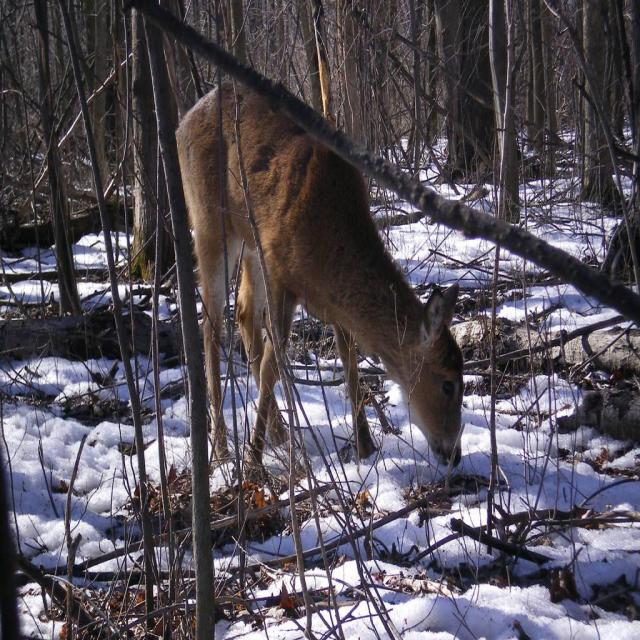Deer: (172, 78, 464, 488)
